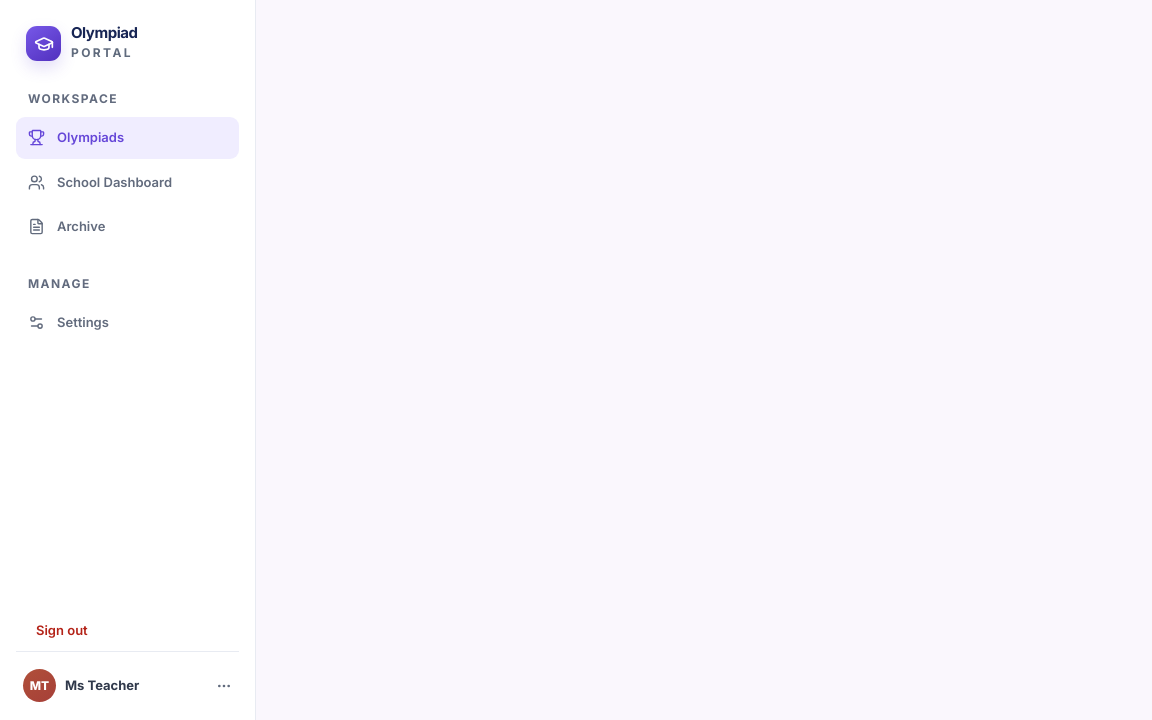
Test case: EducatorSidebar delete account › opens the delete confirmation dialog when the button is clicked
The width and height of the screenshot is (1152, 720).
Click the button "Settings": (128, 322) [16,302,239,343]
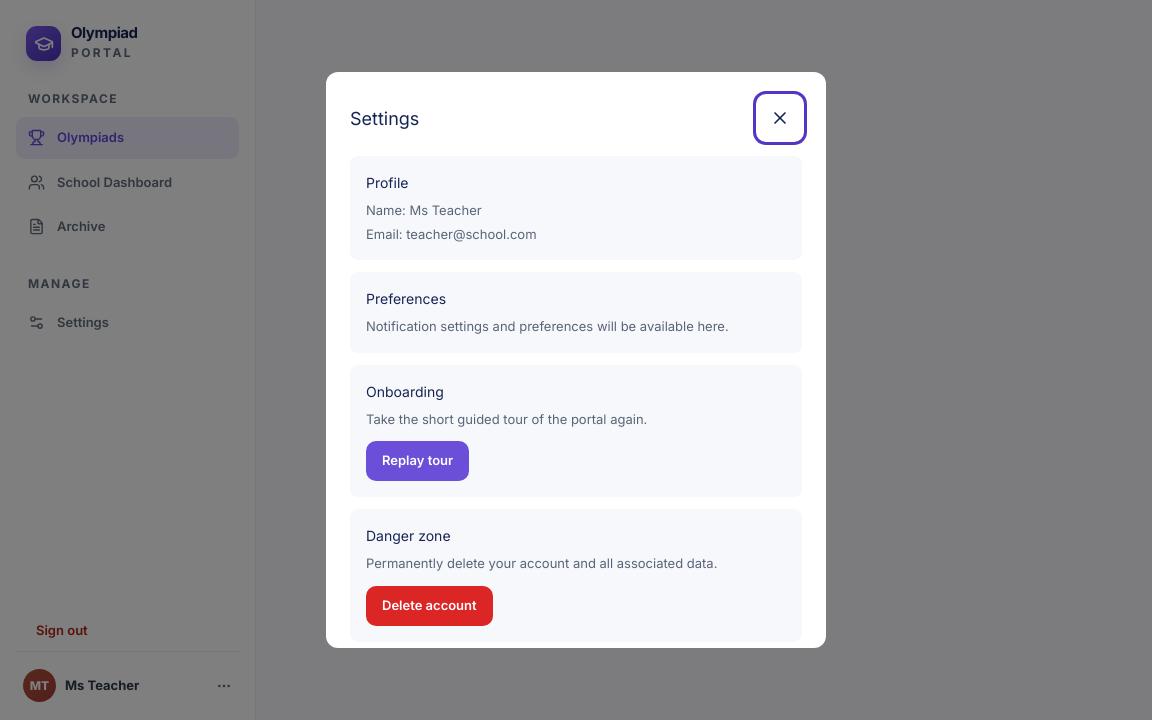
Expected: the dialog "Settings" is shown, [326,72,826,648]
Click the button "Delete account": (429, 606) [366,586,493,626]
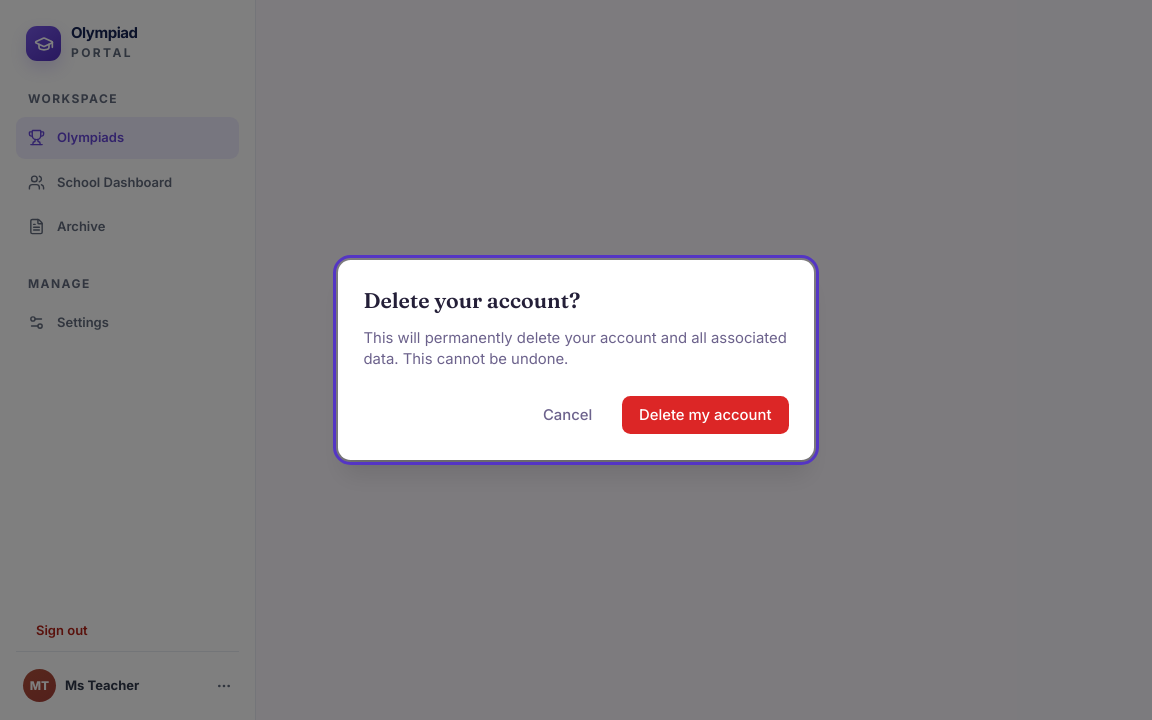
Expected: the heading "Delete your account?" is shown, [364,287,580,313]
Expected: the button "Cancel" is shown, [526,396,609,434]
Expected: the button "Delete my account" is shown, [622,396,788,434]
